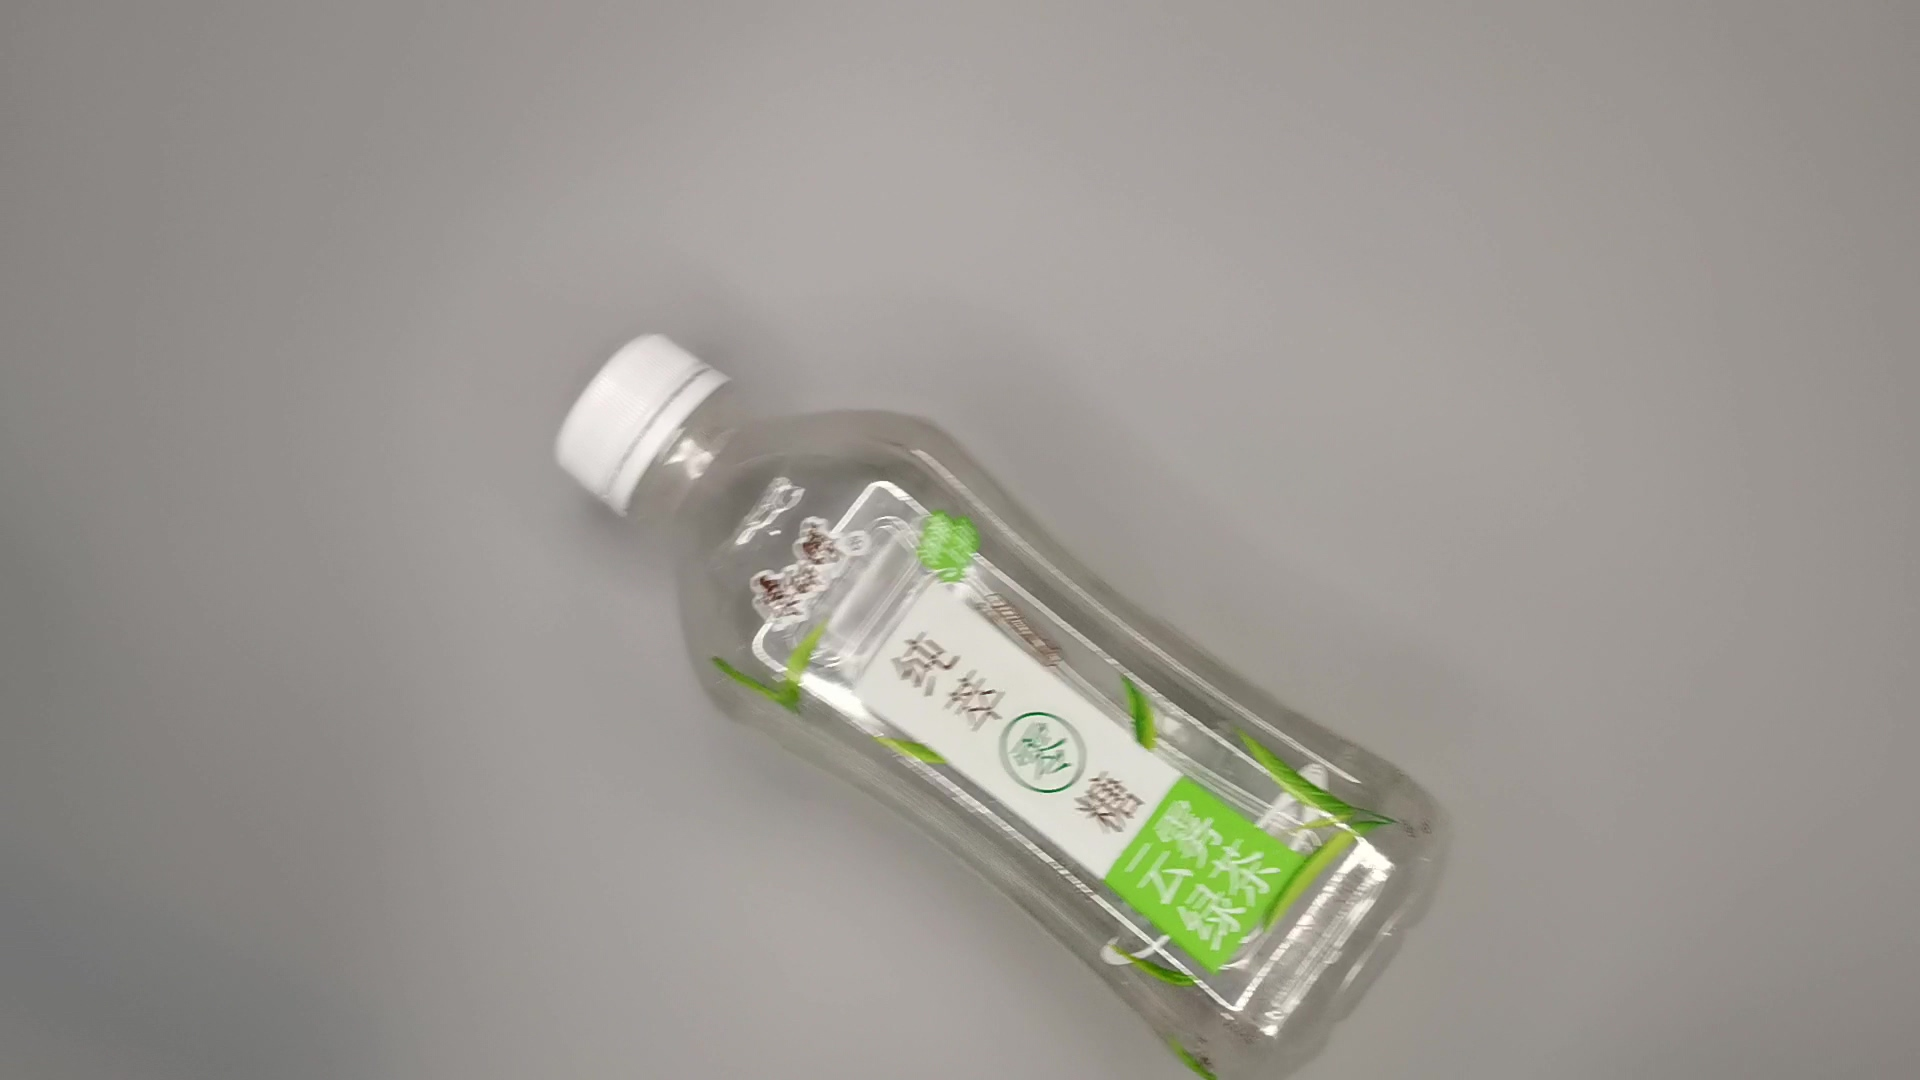bottle: (545, 327, 1470, 1080)
